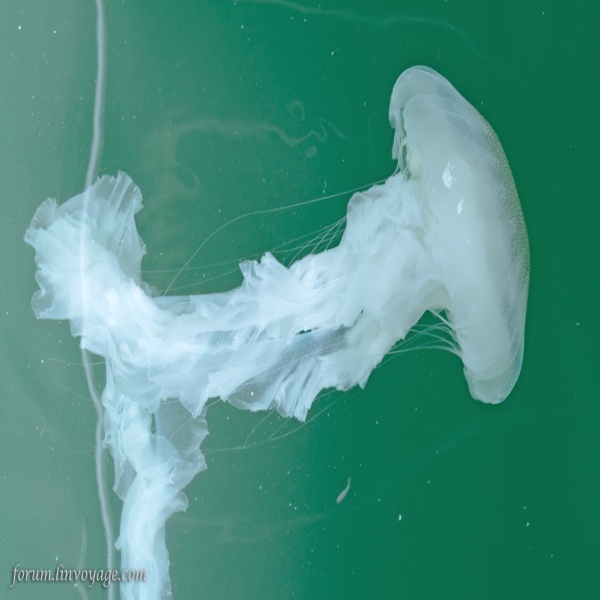Jellyfish: (36, 75, 512, 536)
